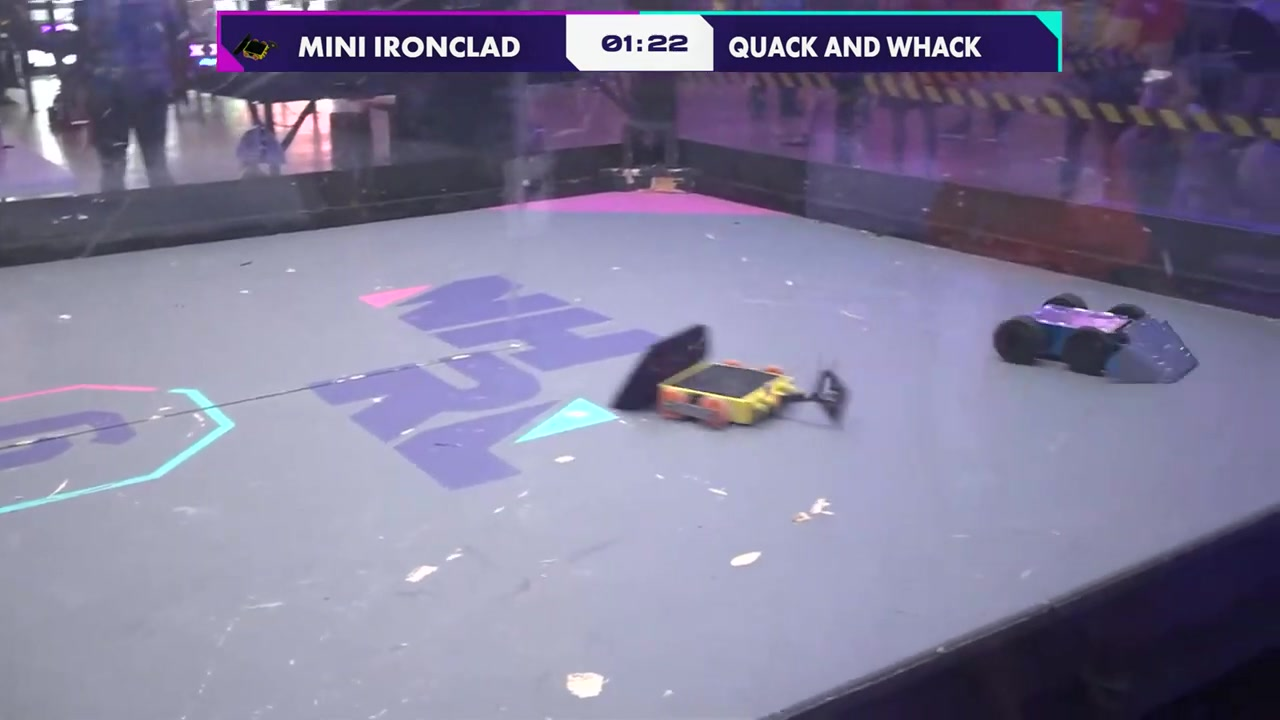combatbot: (613, 327, 799, 429), (993, 294, 1198, 380)
